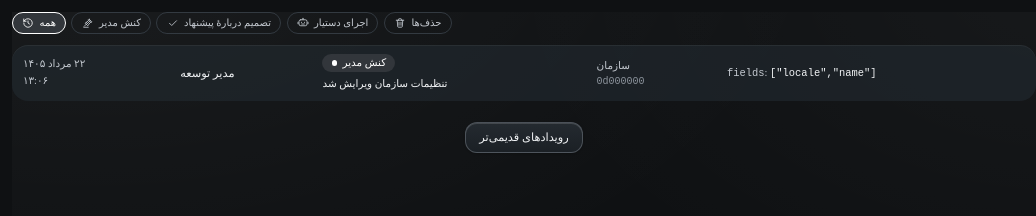
Test case: real admin_action rows › keeps BOTH rows when paging splits a real one-transaction tie
Expected: the text "تنظیمات سازمان ویرایش شد" is shown, [322,78,448,88]
Expected: the text "نقش عضو تغییر کرد" is not shown
Click the button "رویدادهای قدیمی‌تر" at (524, 137), box [465,122,583,153]
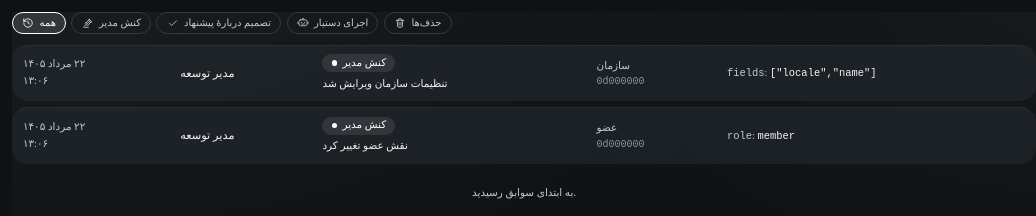
Now the text "نقش عضو تغییر کرد" is shown, box [322,140,408,151]
